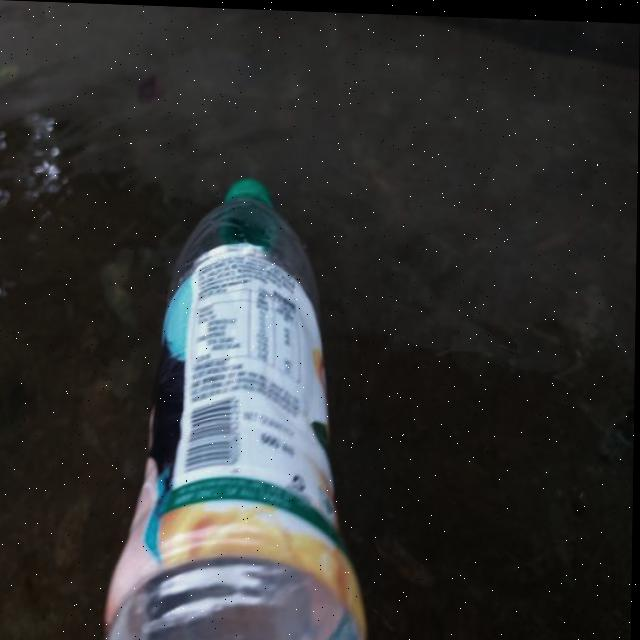waterbottle: (117, 163, 381, 640)
